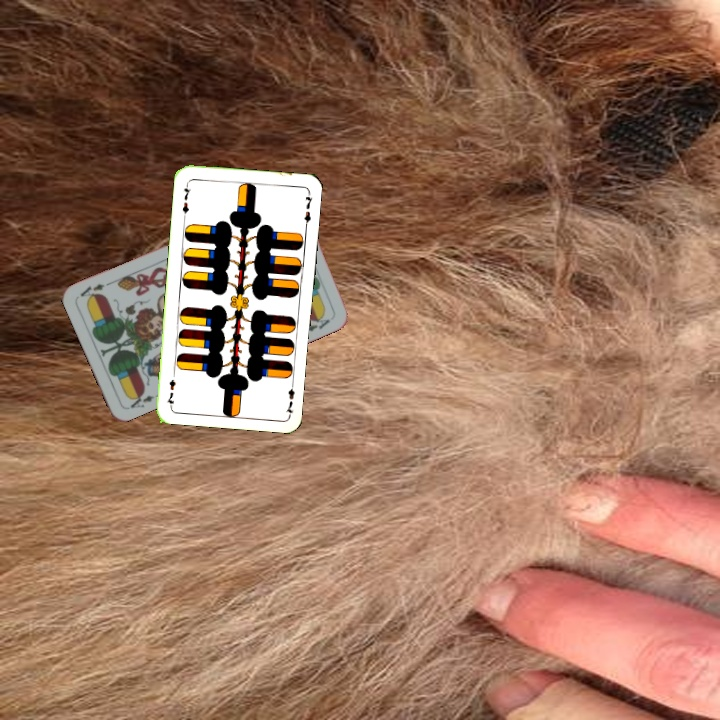E7: (178, 179, 193, 220), (282, 376, 297, 417)
EA: (125, 388, 163, 411)
